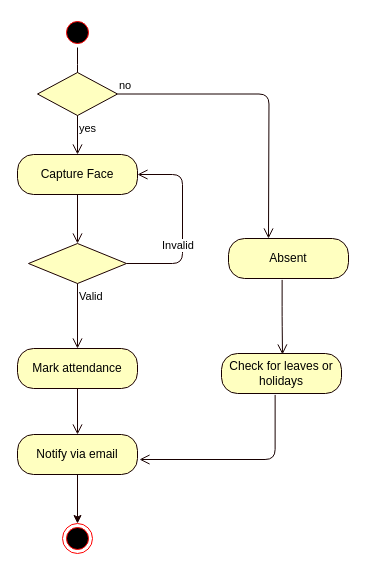
This 366x571 diagram has some shape labels left out. Each missing label, with the box of its shape:
Authenticate: (28, 242, 126, 284)
Entry: (36, 72, 118, 116)
